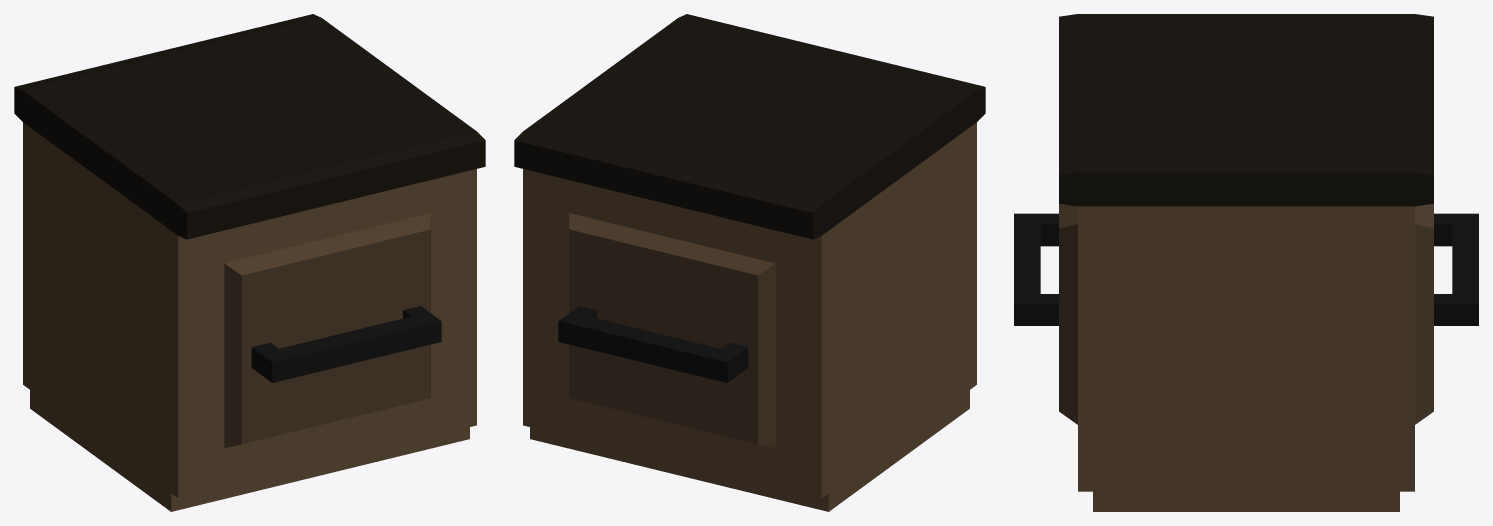
Rendered from Counter.fbx.
3 views of the same model, side by side, from view 1: azimuth 30°, elevation 25°; view 2: azimuth 150°, elevation 25°; view 3: azimuth 270°, elevation 25° (orthographic). The views are drawn at different scales.
Visible parts, largest first — view 1: Counter; view 2: Counter; view 3: Counter.
Boxes of the visible parts, <box> form: Counter: <box>14,14,485,511</box>; Counter: <box>514,14,985,511</box>; Counter: <box>1014,14,1478,511</box>.
Bounding box in the file's own units: 1 × 1 × 1.24.
